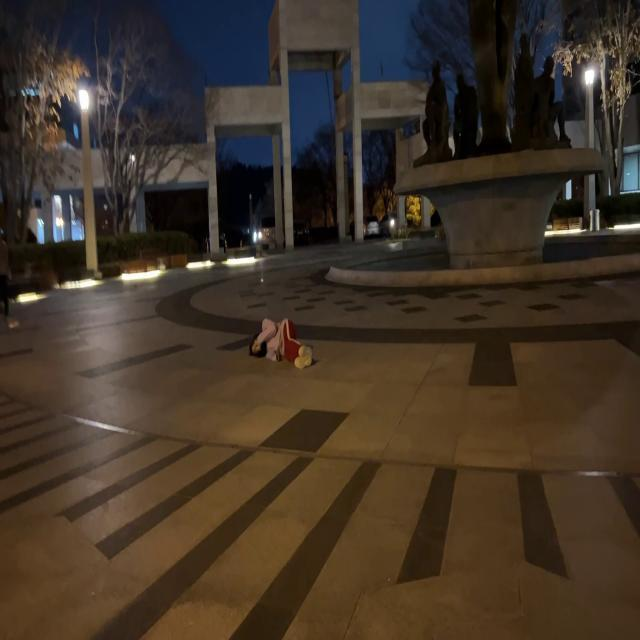Fall: (251, 319, 313, 369)
